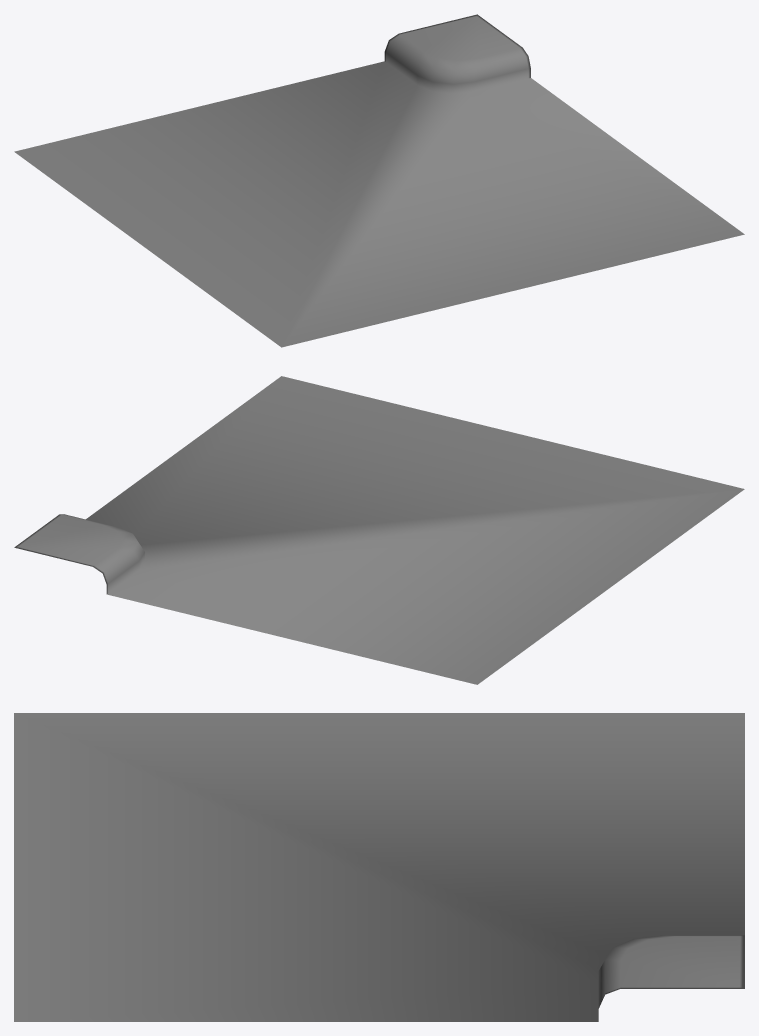
File: PavementOuterCorner.glb
3 views of the same model, one above another, from view 1: azimuth 30°, elevation 25°; view 2: azimuth 150°, elevation 25°; view 3: azimuth 270°, elevation 25° (orthographic). The views are drawn at different scales.
Visible parts, largest first — view 1: PavementOuterCorner; view 2: PavementOuterCorner; view 3: PavementOuterCorner.
Part boxes in pixels (x1,y1,x2,y2): PavementOuterCorner: [14, 14, 744, 347]; PavementOuterCorner: [14, 376, 744, 684]; PavementOuterCorner: [14, 713, 744, 1021].
Bounding box in the file's own units: 2 × 0.1 × 2.
Materials: 1 (1 with a texture image).
